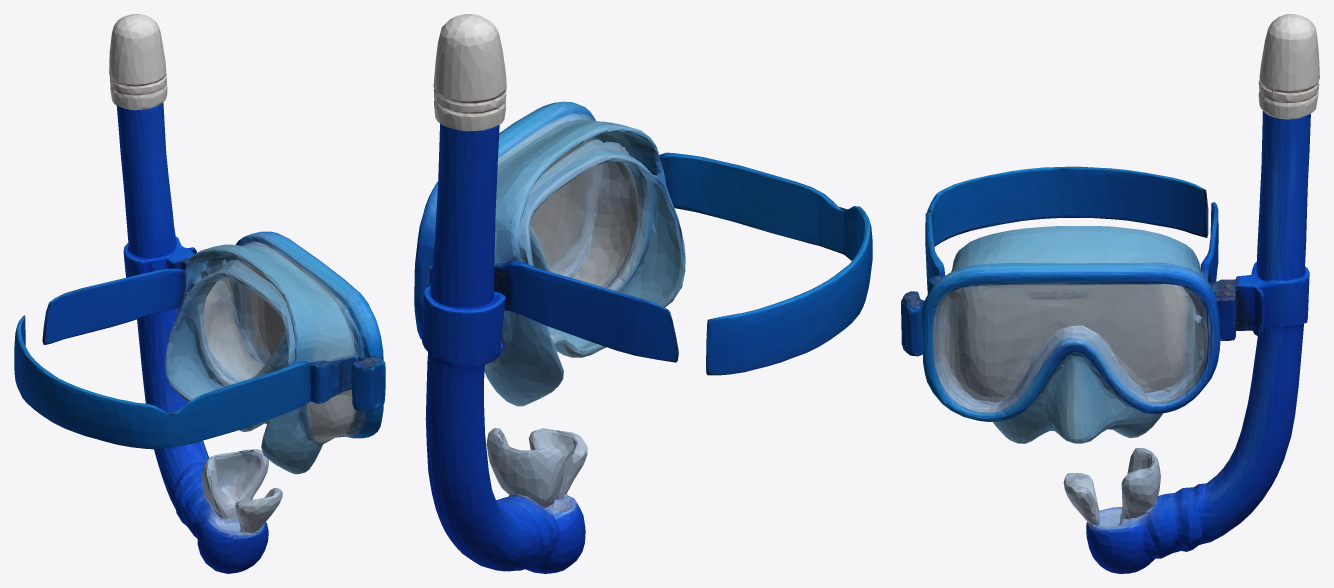
File: schnorchel.glb
3 views of the same model, side by side, from view 1: azimuth 30°, elevation 25°; view 2: azimuth 150°, elevation 25°; view 3: azimuth 270°, elevation 25° (orthographic). The views are drawn at different scales.
Parts seen in each view (by area): view 1: Schnorchel; view 2: Schnorchel; view 3: Schnorchel.
Part boxes in pixels (bbox=[...]): Schnorchel: bbox=[14, 14, 385, 573]; Schnorchel: bbox=[414, 14, 872, 573]; Schnorchel: bbox=[901, 14, 1319, 573].
Bounding box in the file's own units: 0.1901 × 0.3079 × 0.2154.
1 material, 1 textured.
